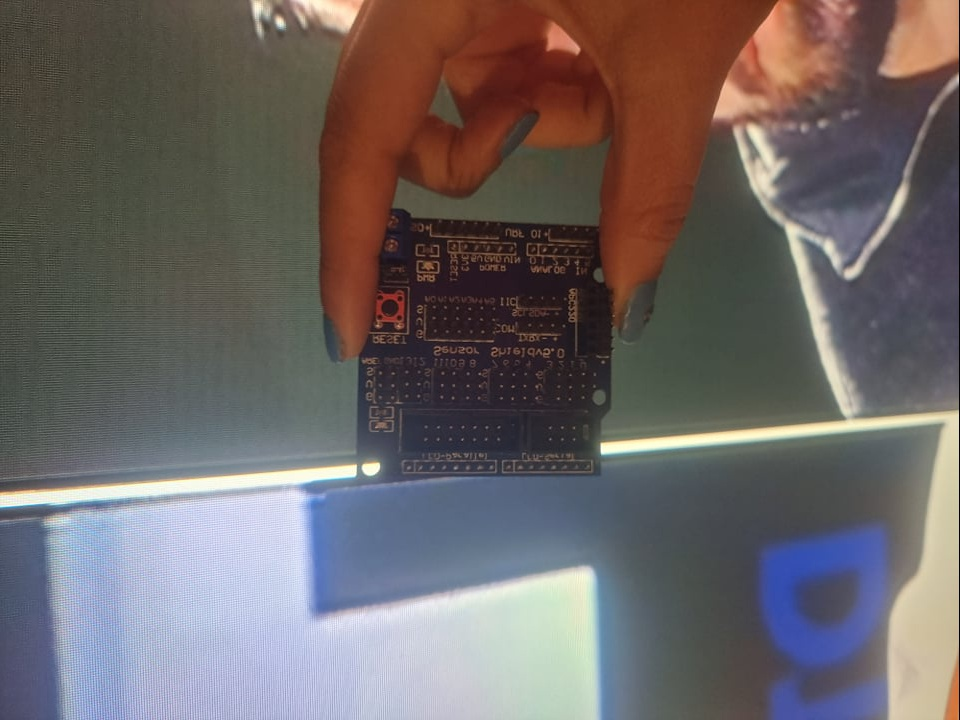5V EXPANSION: (350, 196, 617, 482)
